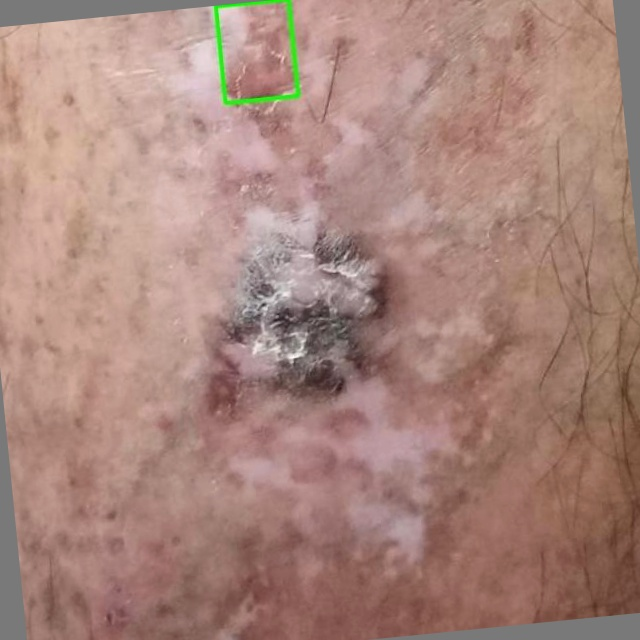Eczema: (215, 0, 298, 102)
